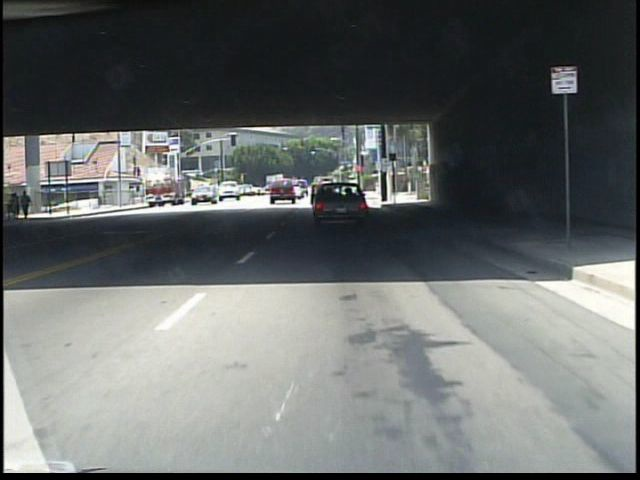person: (10, 194, 23, 223), (24, 191, 36, 222)
